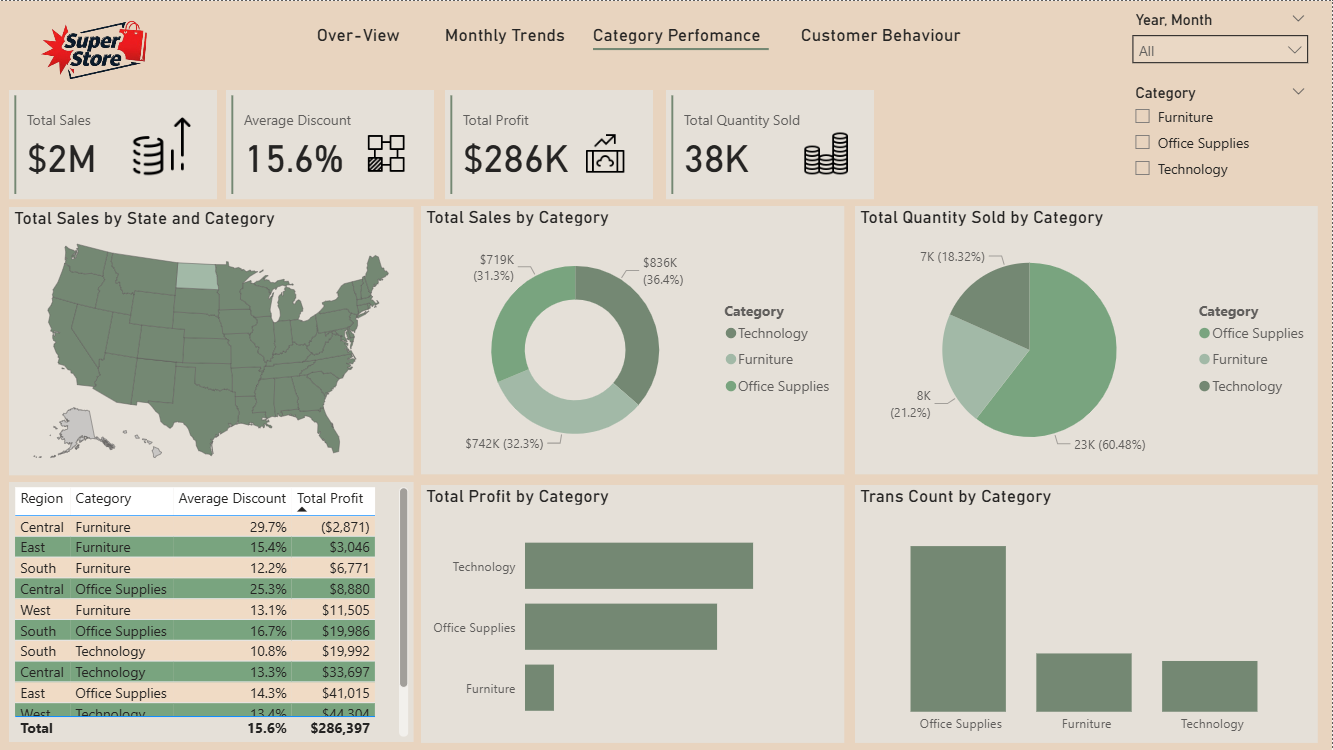

The dashboard page shown, as its layout file describes it:
{"tool":"powerbi","page":{"name":"Category Wise Performance","canvas":[1280,720],"ordinal":2},"visuals":[{"type":"image","box":[0,0,188.7,84.6],"z":0},{"type":"actionButton","title":"Over-View","box":[304.4,22.4,100.2,39.9],"z":1000},{"type":"shape","box":[570,0,169.2,92.4],"z":2000},{"type":"actionButton","title":"Monthly Trends","box":[428,22.4,122.6,39.9],"z":3000},{"type":"actionButton","title":"Category Perfomance","box":[570,22.4,169.2,39.9],"z":4000},{"type":"slicer","fields":{"Values":["Calendar.Year","Calendar.Month"]},"box":[1078.7,4.9,188.7,70],"z":5000},{"type":"actionButton","title":"Customer Behaviour","box":[770.3,22.4,165.3,39.9],"z":6000},{"type":"cardVisual","fields":{"Data":["Orders.Total Qunatity Sold"]},"box":[640,85.6,200.4,105],"z":7000},{"type":"cardVisual","fields":{"Data":["Orders.Total Profit"]},"box":[428,85.6,200.4,105],"z":8000},{"type":"cardVisual","fields":{"Data":["Orders.Average Discount"]},"box":[216.9,85.6,200.4,105],"z":9000},{"type":"cardVisual","fields":{"Data":["Orders.Total Sales"]},"box":[8.8,85.6,200,105],"z":10000},{"type":"pieChart","fields":{"Y":["Orders.Total Qunatity Sold"],"Category":["Orders.Category"]},"box":[821.9,197.4,445.5,257.8],"z":11000},{"type":"donutChart","fields":{"Y":["Orders.Total Sales"],"Category":["Orders.Category"]},"box":[404.6,197.4,406.6,257.8],"z":12000},{"type":"shapeMap","fields":{"Category":["Orders.State"],"Value":["Orders.Total Sales"],"Series":["Orders.Category"]},"box":[9,197.8,388.7,257.8],"z":13000},{"type":"slicer","fields":{"Values":["Orders.Category"]},"box":[1079.2,74.9,188.9,115.9],"z":14000},{"type":"barChart","fields":{"Y":["Orders.Total Profit"],"Category":["Orders.Category"]},"box":[404.6,464.9,406.6,248],"z":15000},{"type":"lineClusteredColumnComboChart","fields":{"Y":["Orders.Trans Count"],"Category":["Orders.Category"]},"box":[821.9,464.9,445.5,248],"z":16000},{"type":"tableEx","fields":{"Values":["Orders.Region","Orders.Category","Orders.Average Discount","Orders.Total Profit"]},"box":[9,462.6,388.7,249.8],"z":17000}]}

Visuals, with their boxes in screenshot pixels (x1, y1, x2, y2), scaled from the page's 1280x720 canvas onto the 1333x750 screenshot:
image: bbox=(0, 0, 197, 88)
"Over-View" actionButton: bbox=(317, 23, 421, 65)
shape: bbox=(594, 0, 770, 96)
"Monthly Trends" actionButton: bbox=(446, 23, 573, 65)
"Category Perfomance" actionButton: bbox=(594, 23, 770, 65)
slicer - Calendar.Year x Calendar.Month: bbox=(1123, 5, 1320, 78)
"Customer Behaviour" actionButton: bbox=(802, 23, 974, 65)
cardVisual - Orders.Total Qunatity Sold: bbox=(666, 89, 875, 199)
cardVisual - Orders.Total Profit: bbox=(446, 89, 654, 199)
cardVisual - Orders.Average Discount: bbox=(226, 89, 435, 199)
cardVisual - Orders.Total Sales: bbox=(9, 89, 217, 199)
pieChart - Orders.Total Qunatity Sold x Orders.Category: bbox=(856, 206, 1320, 474)
donutChart - Orders.Total Sales x Orders.Category: bbox=(421, 206, 845, 474)
shapeMap - Orders.State x Orders.Total Sales: bbox=(9, 206, 414, 475)
slicer - Orders.Category: bbox=(1124, 78, 1321, 199)
barChart - Orders.Total Profit x Orders.Category: bbox=(421, 484, 845, 743)
lineClusteredColumnComboChart - Orders.Trans Count x Orders.Category: bbox=(856, 484, 1320, 743)
tableEx - Orders.Region x Orders.Category: bbox=(9, 482, 414, 742)
